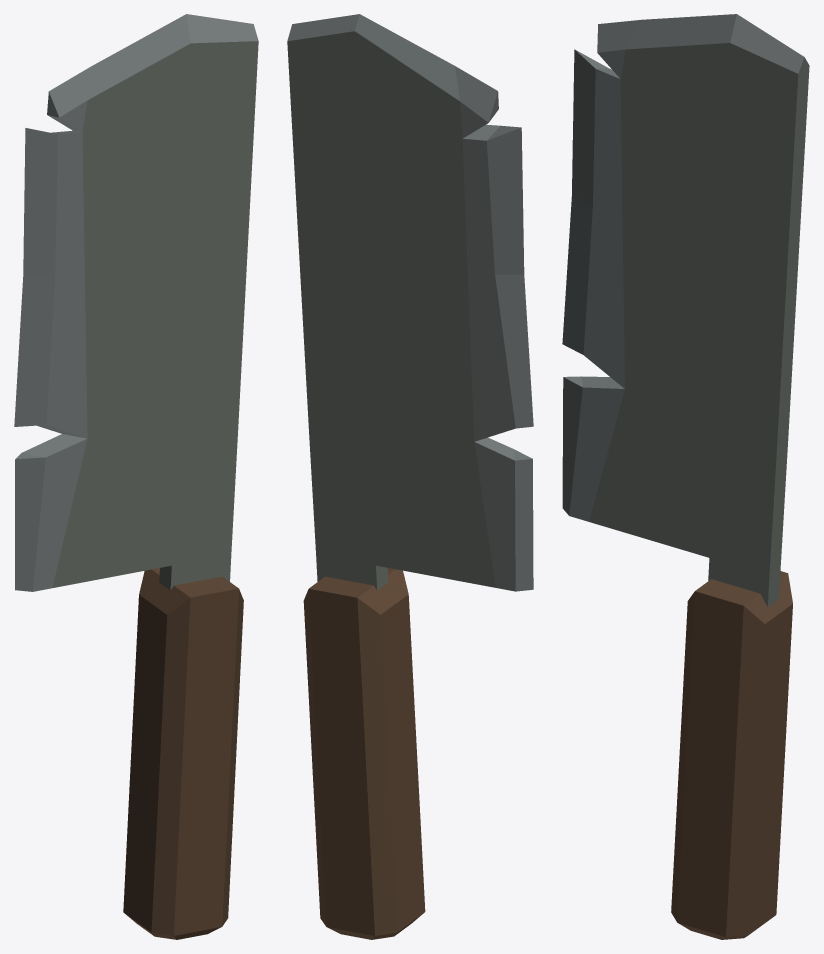
File: SM_Knife.fbx
The picture shows the model from 3 angles, left to right: view 1: azimuth 30°, elevation 25°; view 2: azimuth 150°, elevation 25°; view 3: azimuth 330°, elevation 25°; orthographic projection.
Visible parts, largest first — view 1: SM_Knife; view 2: SM_Knife; view 3: SM_Knife.
Part boxes in pixels (box(x1,y1,x2,y2)): SM_Knife: box(14, 14, 258, 939); SM_Knife: box(287, 14, 533, 939); SM_Knife: box(562, 14, 809, 939).
Size of the model in its own units: 16.33 by 59.02 by 5.29.
